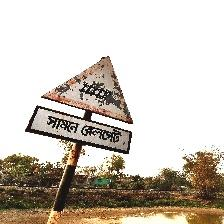Rail-crossing: (28, 56, 135, 156)
